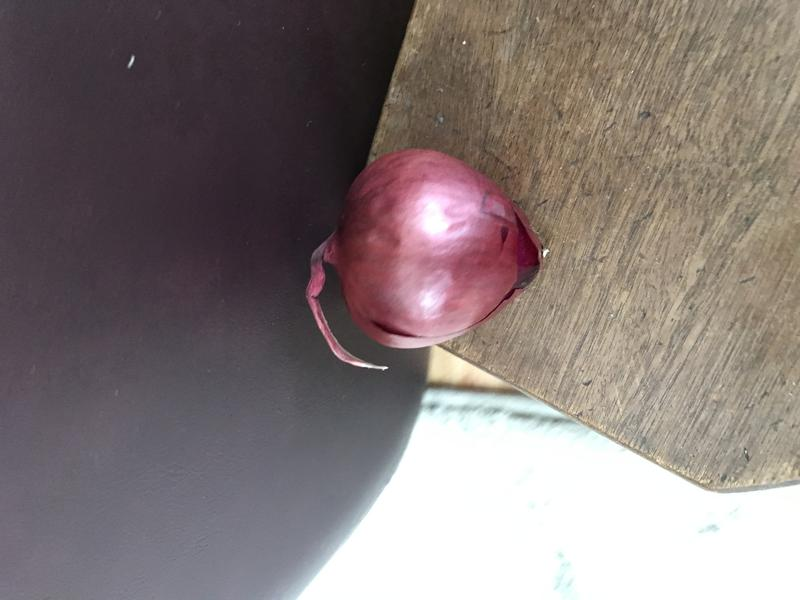purple_onion: (292, 138, 551, 383)
